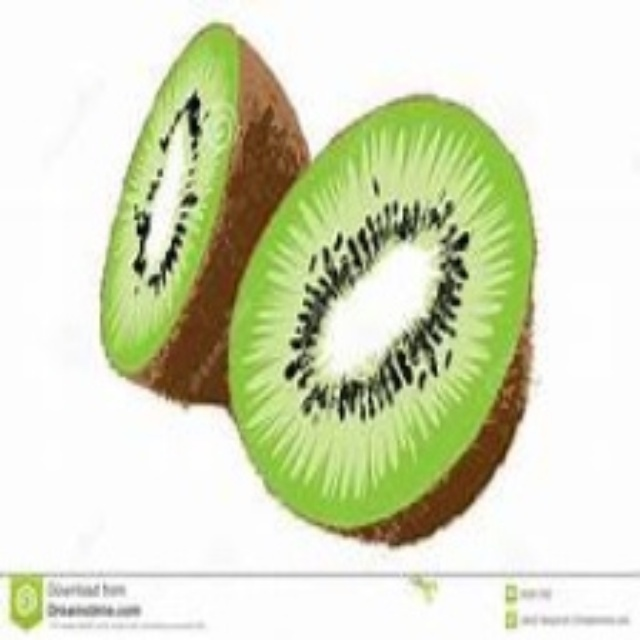kiwi: (238, 101, 558, 544), (86, 25, 300, 417)
